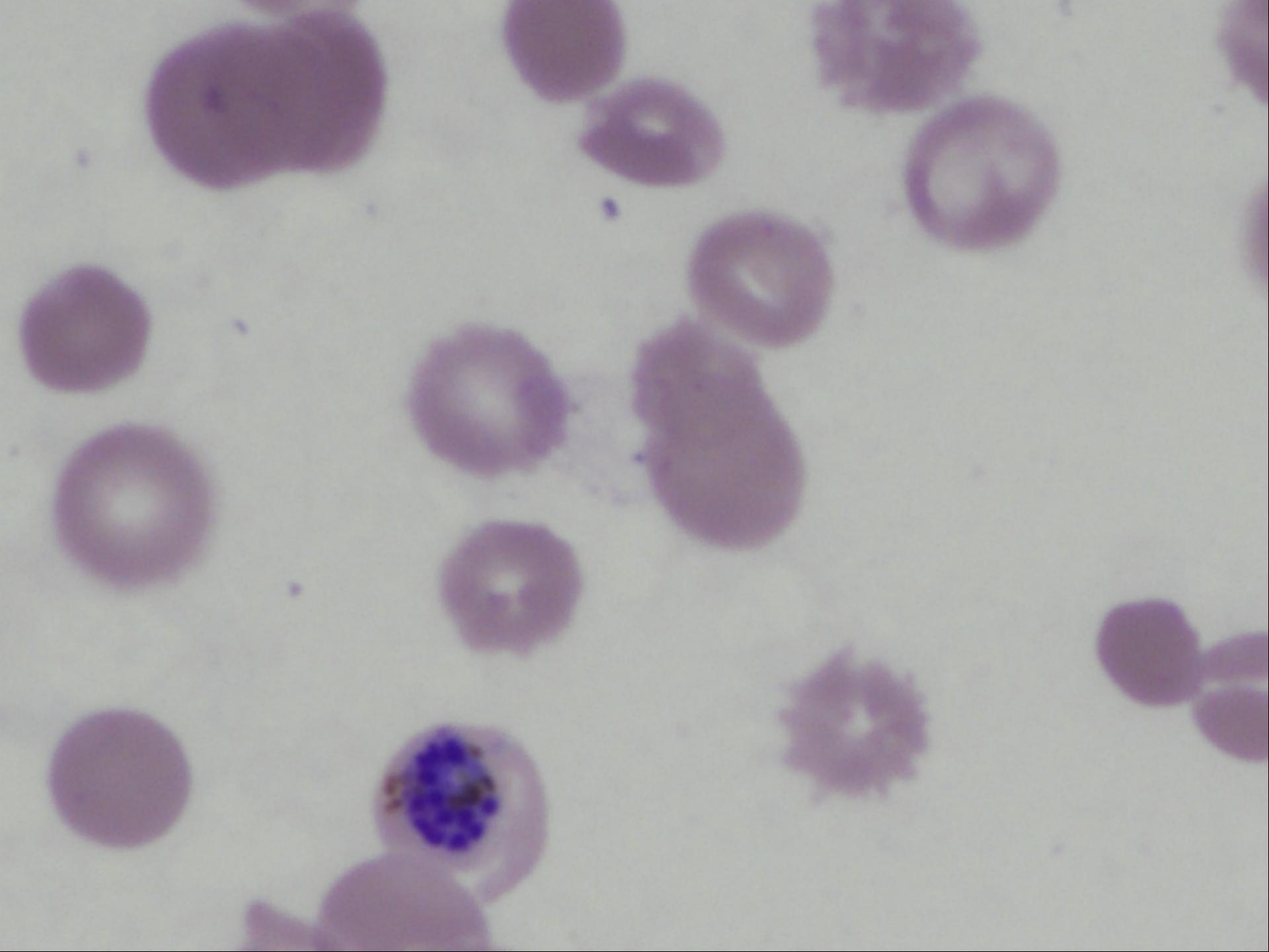Infected: (371, 715, 548, 880)
Uninfected: (151, 13, 380, 187), (633, 328, 804, 547), (48, 422, 213, 587), (899, 94, 1065, 247), (405, 324, 567, 476), (40, 708, 195, 853), (784, 648, 931, 798), (685, 214, 837, 348), (438, 519, 584, 657), (16, 260, 153, 390), (814, 0, 972, 106), (580, 78, 722, 186), (1099, 602, 1197, 703)
